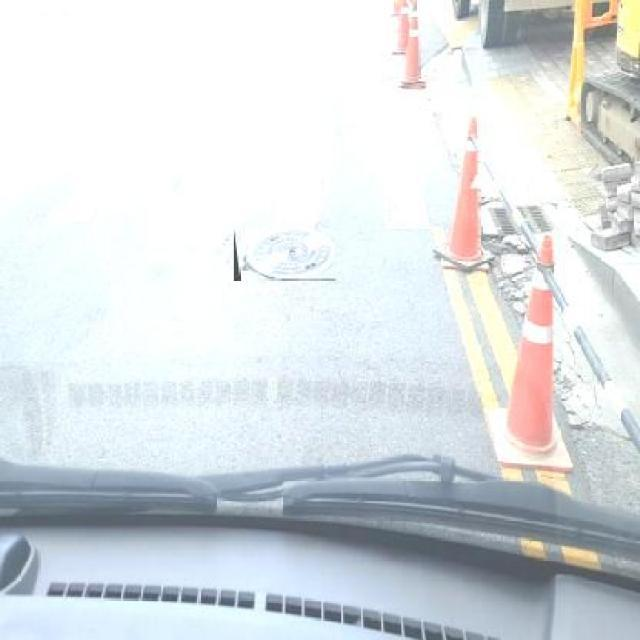Manhole: (234, 228, 336, 280), (520, 203, 556, 233), (488, 206, 516, 234)
